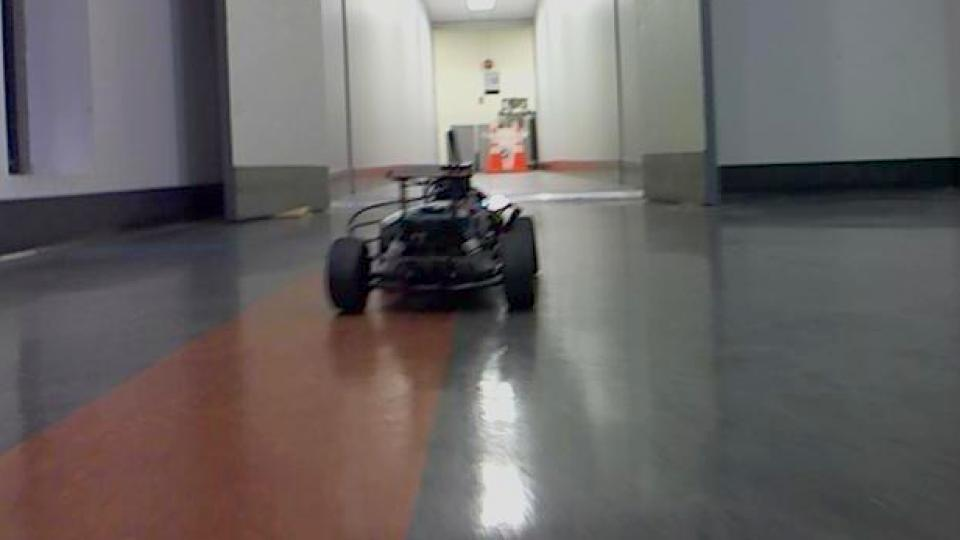car: (321, 158, 542, 318)
